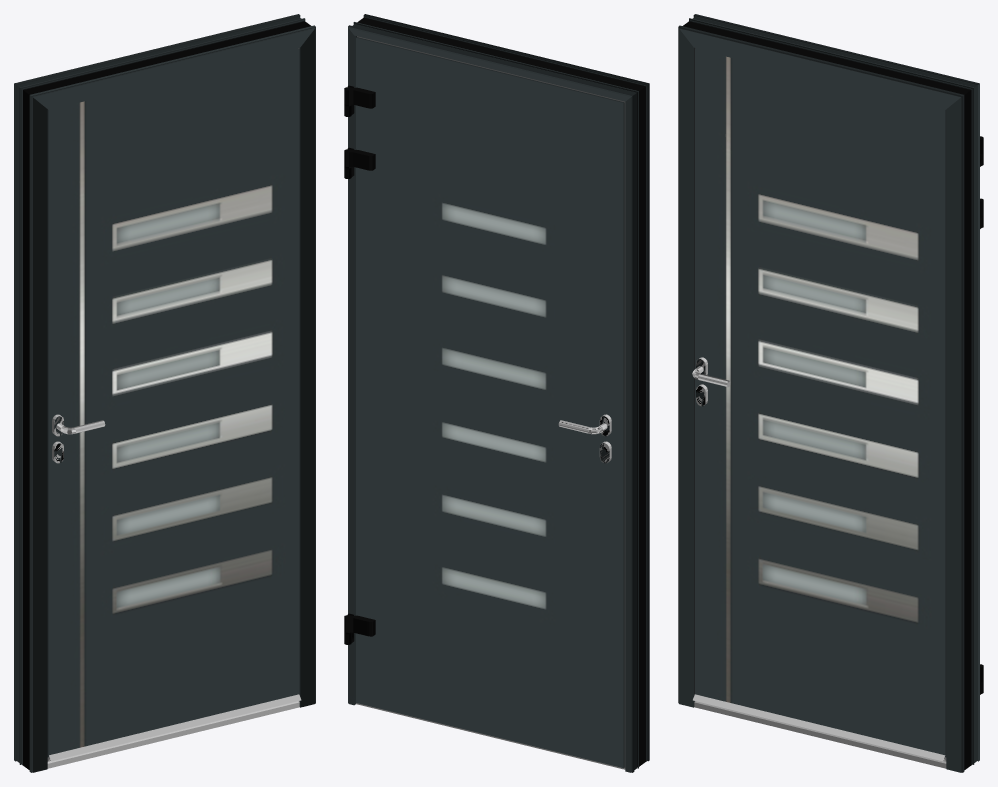
3 views of the same model, side by side, from view 1: azimuth 30°, elevation 25°; view 2: azimuth 150°, elevation 25°; view 3: azimuth 330°, elevation 25° (orthographic).
Visible parts, largest first — view 1: ouvrant, 105; view 2: ouvrant, 105; view 3: ouvrant, 105.
Boxes of the visible parts, x1,y1,x2,y2 form: ouvrant: (47,48,301,761); 105: (14,14,315,772); ouvrant: (344,36,625,768); 105: (344,14,649,772); ouvrant: (693,48,983,761); 105: (678,14,983,772).
Size of the model in its own units: 96 by 218 by 24.64.
Materials: 1 (1 with a texture image).
